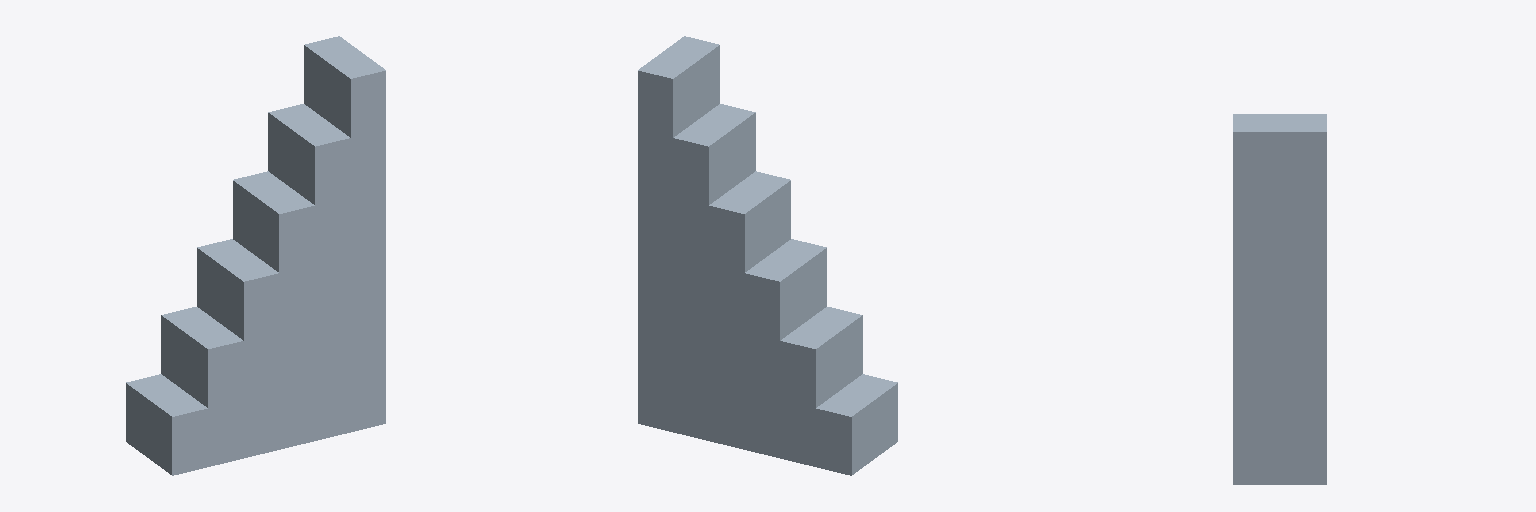
Rendered from Stair1.obj.
3 renders of one model, left to right at view 1: azimuth 30°, elevation 25°; view 2: azimuth 150°, elevation 25°; view 3: azimuth 270°, elevation 25°, orthographic.
Visible parts, largest first — view 1: Stair1; view 2: Stair1; view 3: Stair1.
Boxes of the visible parts, box(x1,y1,x2,y2) form: Stair1: box(126, 36, 385, 475); Stair1: box(638, 36, 897, 475); Stair1: box(1233, 114, 1326, 484).
Size of the model in its own units: 0.6918 by 1.09 by 0.2629.